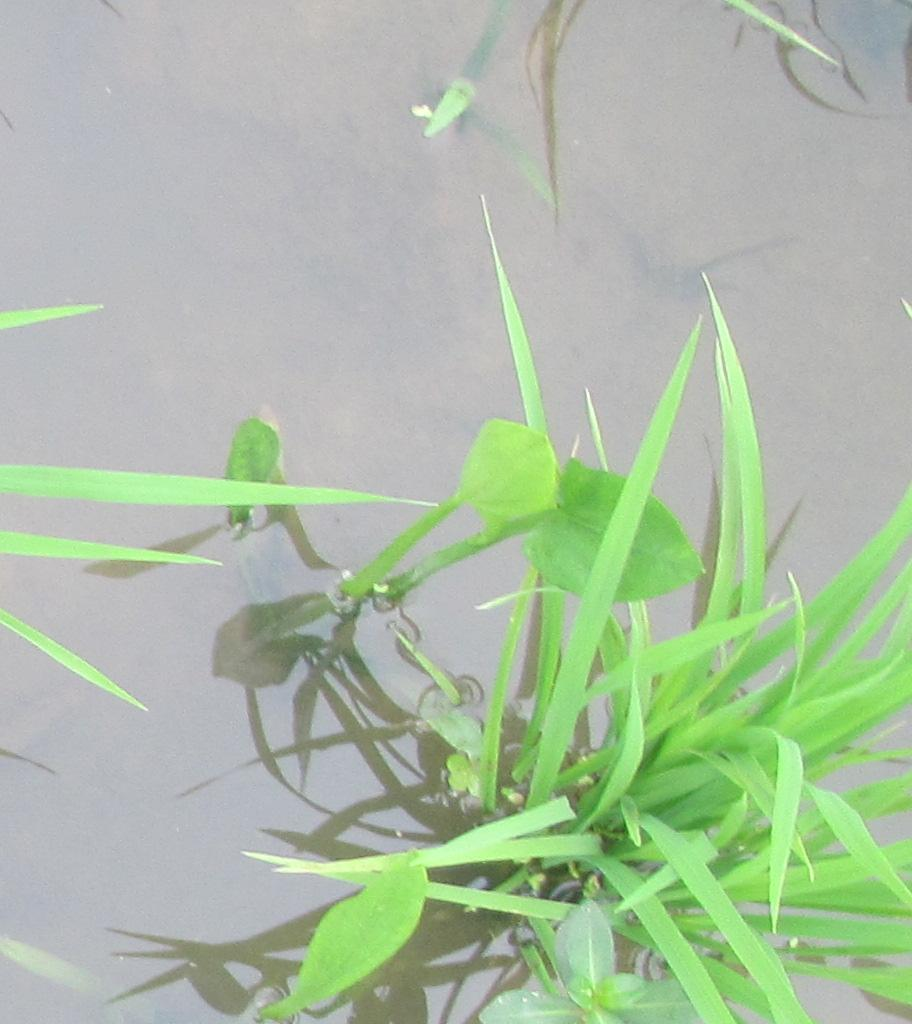Weed: (344, 416, 716, 630), (275, 853, 442, 1008)
